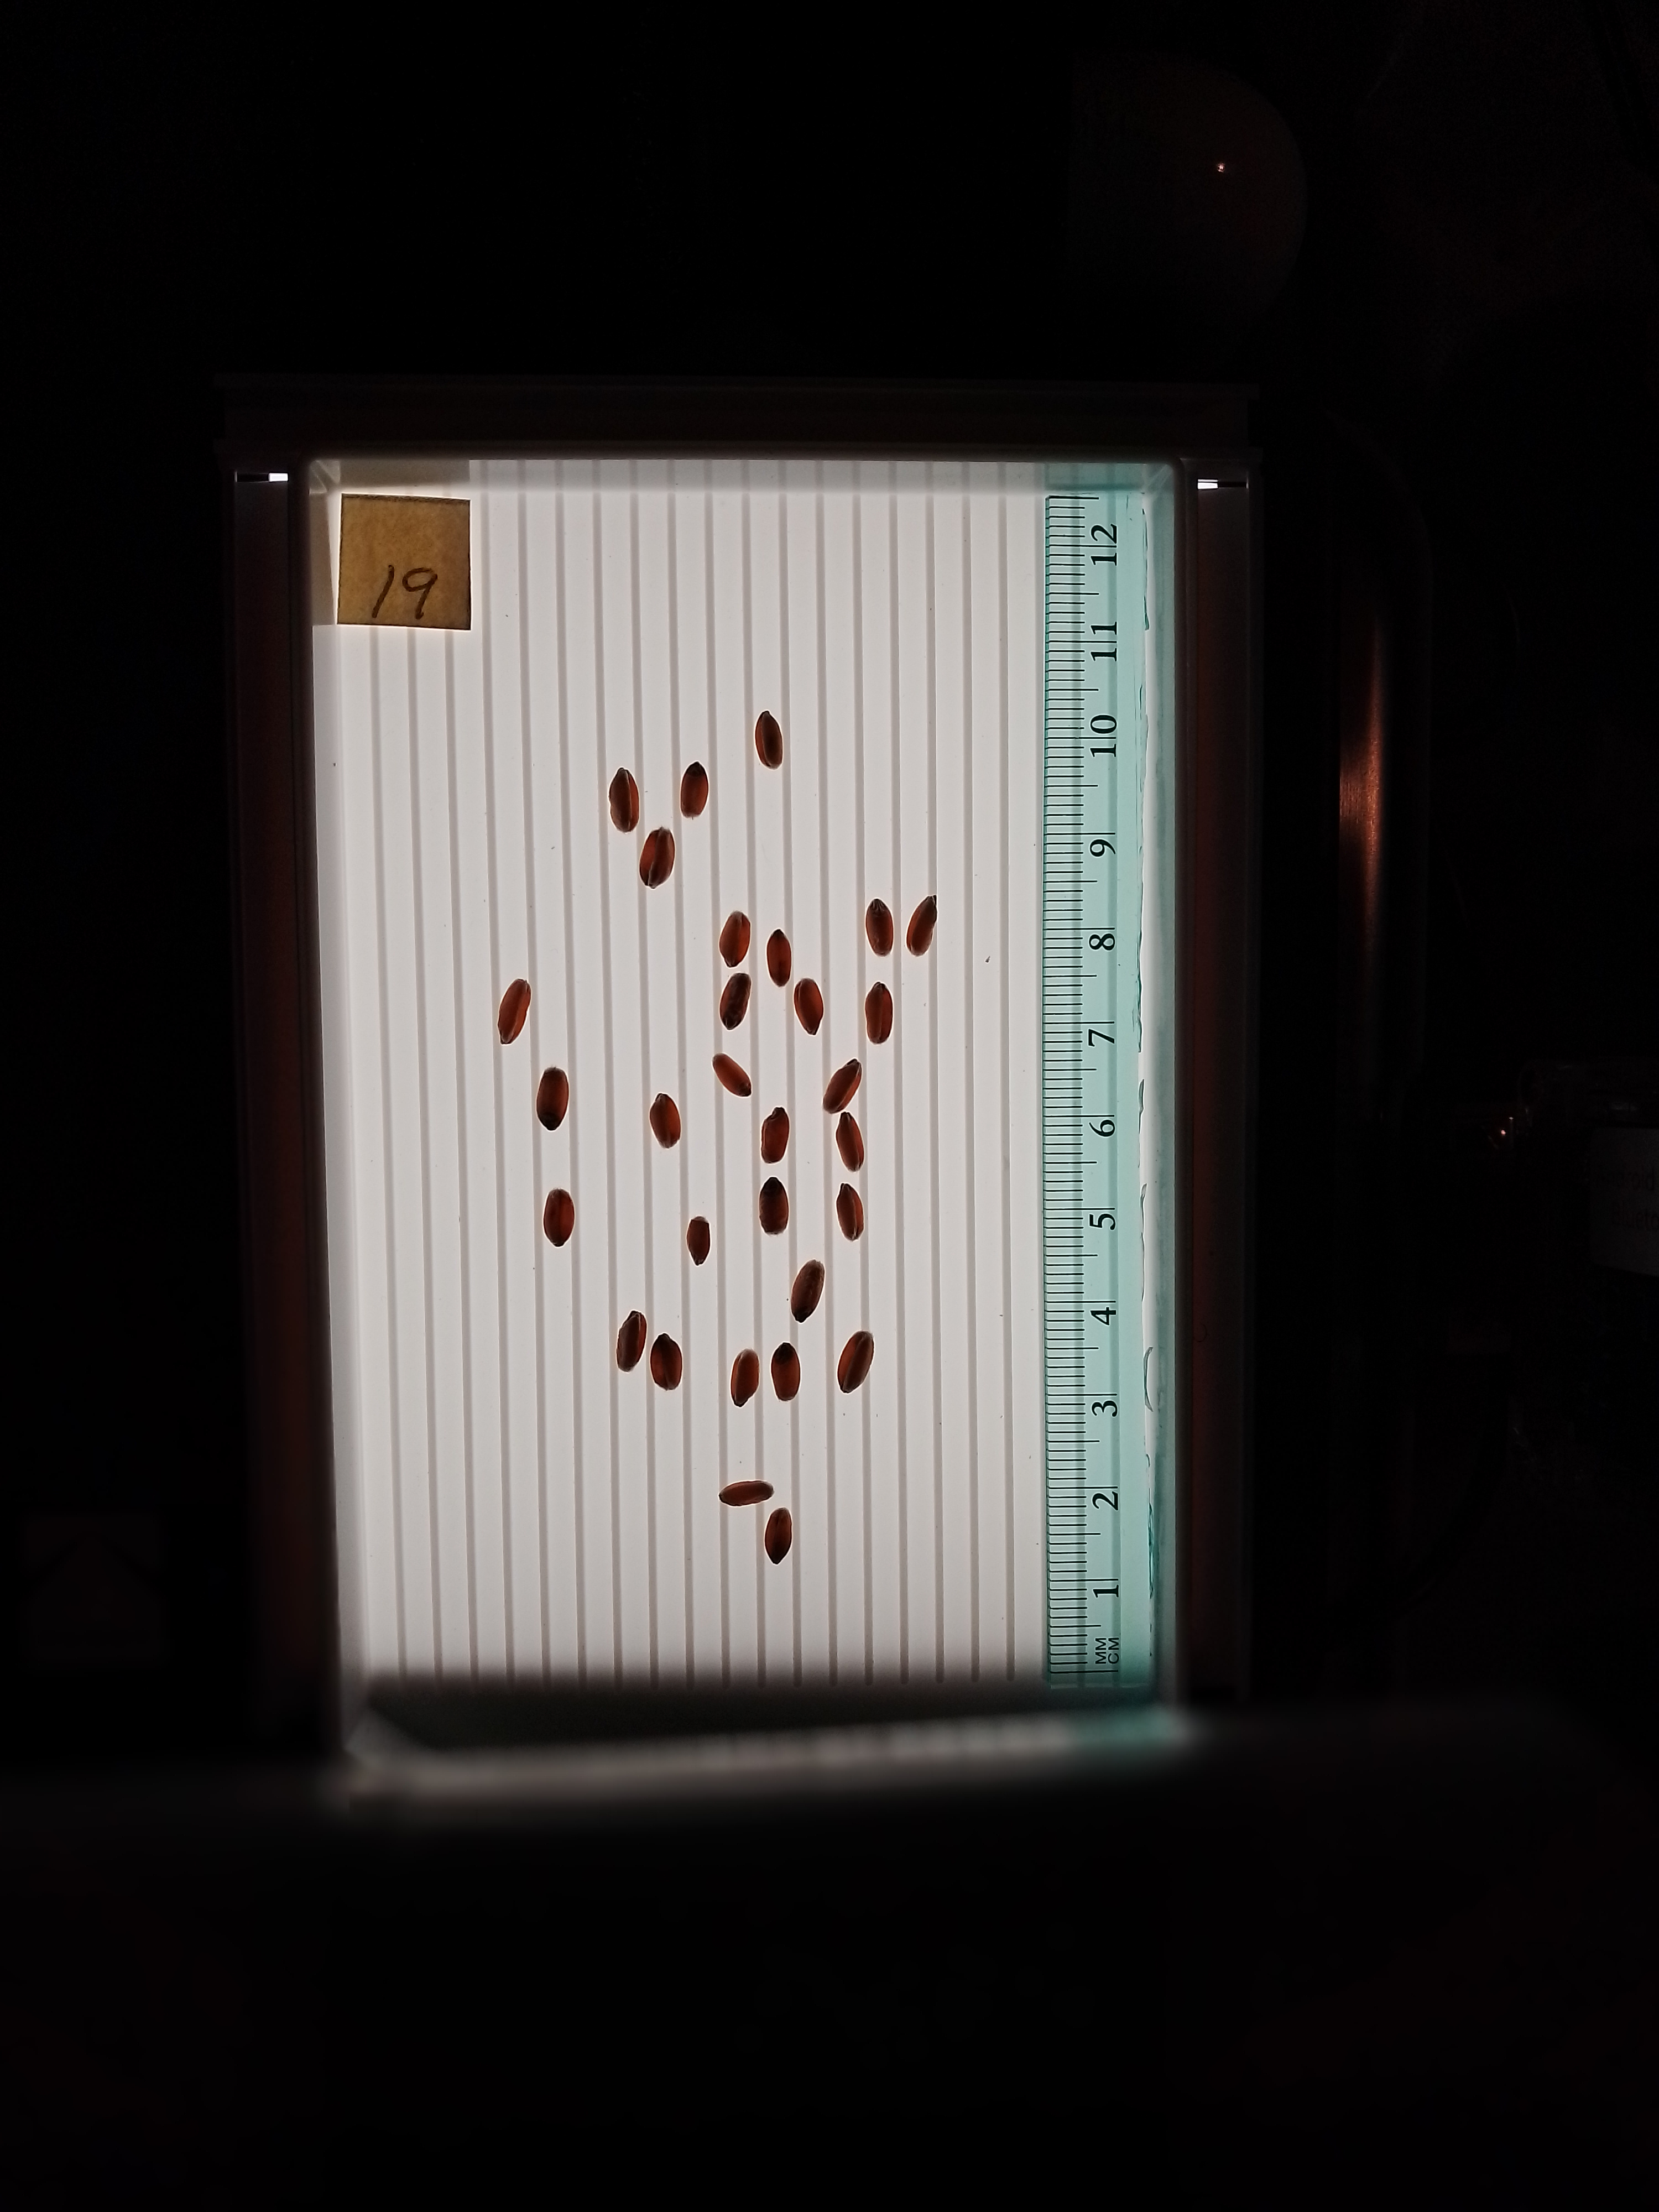seed mask: (836, 1331, 875, 1393), (497, 977, 532, 1045), (606, 768, 641, 833), (640, 829, 676, 888), (823, 1059, 863, 1113), (791, 1259, 824, 1324), (535, 1068, 568, 1130), (904, 895, 939, 954), (718, 972, 751, 1031), (718, 909, 751, 967), (615, 1310, 645, 1372), (544, 1188, 575, 1247), (835, 1111, 864, 1172), (770, 1343, 802, 1400), (864, 981, 892, 1045), (755, 711, 784, 770), (758, 1176, 788, 1235), (835, 1181, 864, 1240), (730, 1348, 760, 1407), (650, 1334, 681, 1390), (650, 1092, 681, 1148), (713, 1052, 751, 1097), (763, 1507, 793, 1564), (760, 1106, 789, 1163), (680, 763, 709, 819), (795, 975, 823, 1035), (866, 899, 894, 956), (765, 928, 791, 986), (718, 1480, 774, 1505), (687, 1216, 711, 1264)
